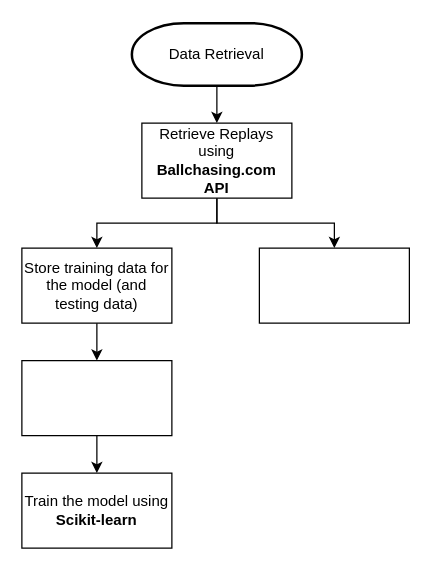
The diagram is 431 pixels wide and 570 high, and some of its shapes have lost their labels. The centre of each missing label's shape, as x and y in pixels:
"Manually label training data" belongs at [96,397].
"Store spider chart data in large dataset" belongs at [333,285].
